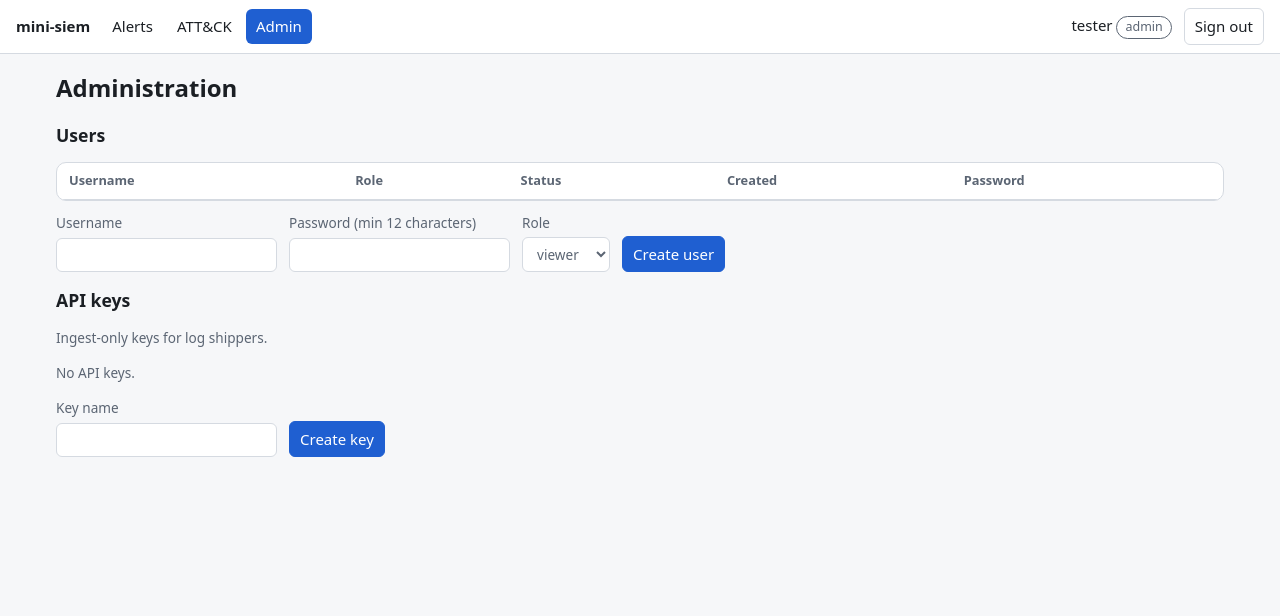
it: admin api keys › shows a new key once
This screenshot has width=1280, height=616.
Type "shipper" into the field labelled "Key name" at (166,440), box left=56, top=423, right=277, bottom=457
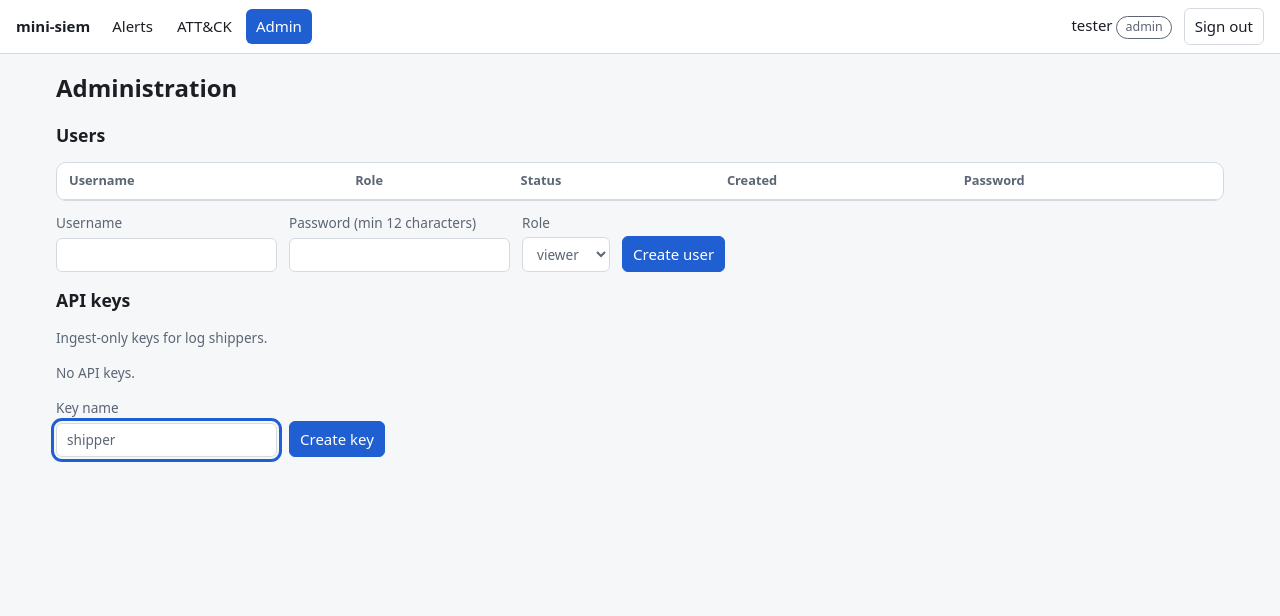
Click the button "Create key" at (337,439), box left=289, top=421, right=385, bottom=457
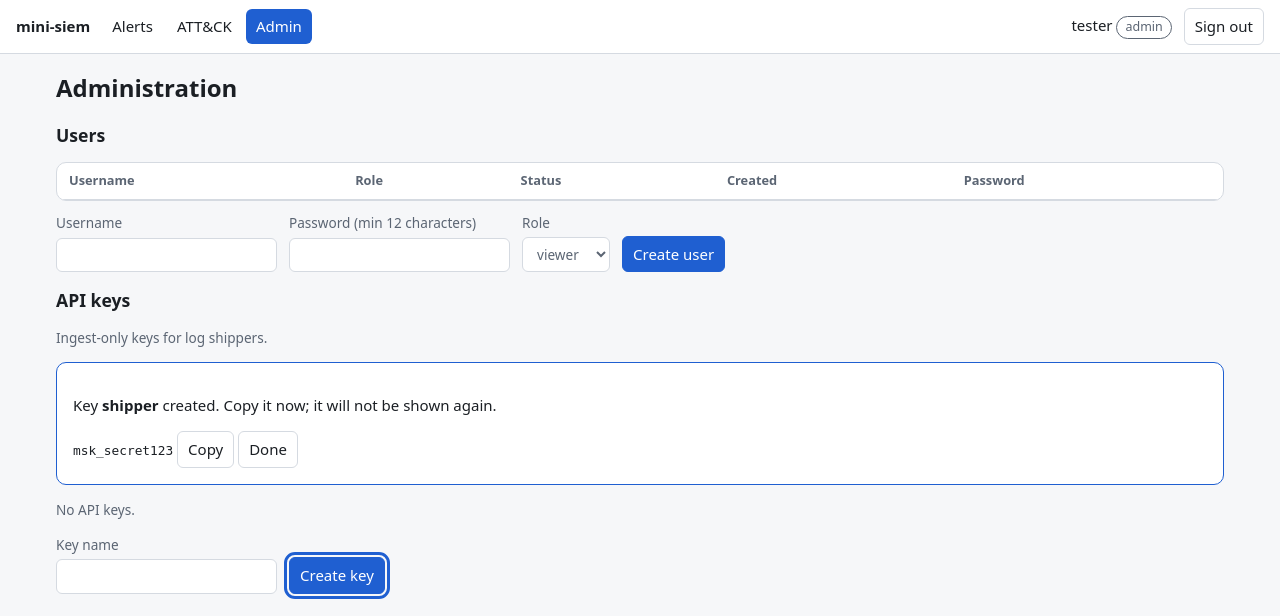
Result: the text with test id "new-key" reads "msk_secret123" at left=73, top=443, right=173, bottom=458
Click the button "Done" at (268,449), box left=238, top=431, right=298, bottom=468
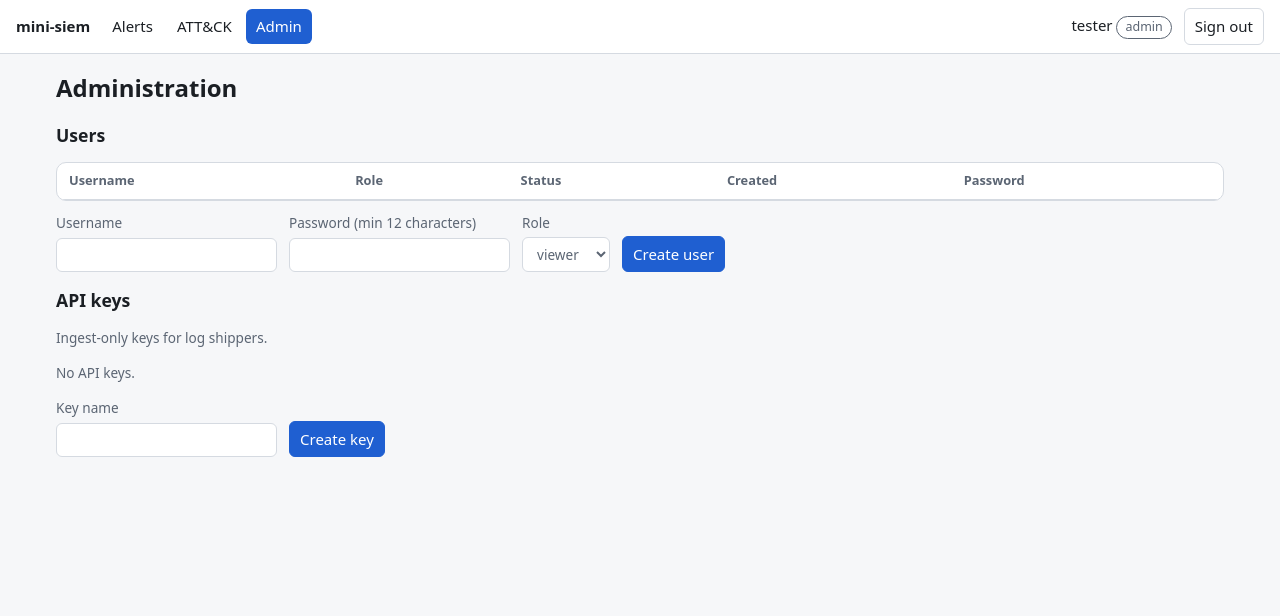
Result: the text "msk_secret123" is gone
